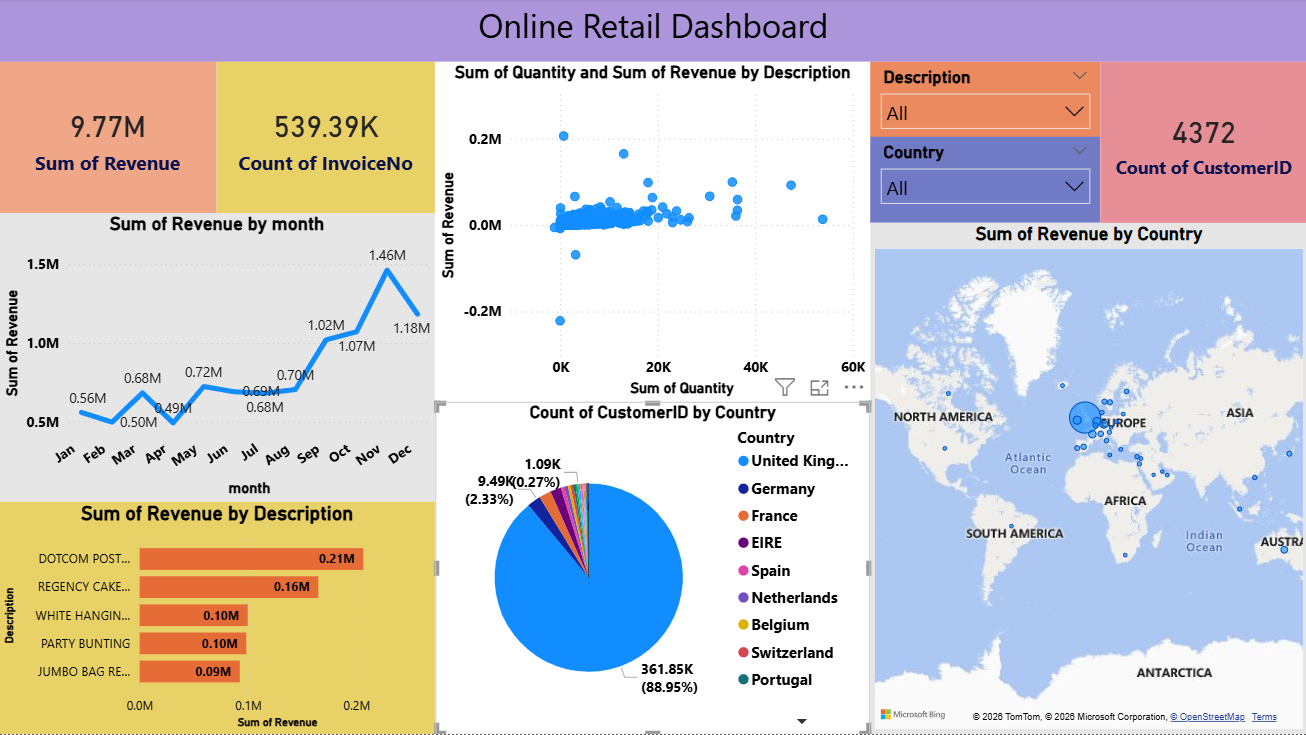

What the dashboard file says about the page in this screenshot:
{"tool":"powerbi","page":{"name":"Page 1","canvas":[1280,720],"ordinal":0},"visuals":[{"type":"lineChart","fields":{"Category":["Online Retail.month"],"Y":["Sum(Online Retail.Revenue)"]},"box":[0,209.9,426.8,282.7],"z":0},{"type":"textbox","box":[0,0,1280.3,62.4],"z":1000},{"type":"card","fields":{"Values":["Sum(Online Retail.Revenue)"]},"box":[0,62.4,212.8,148],"z":2000},{"type":"card","fields":{"Values":["CountNonNull(Online Retail.InvoiceNo)"]},"box":[212.8,62.4,214,148],"z":3000},{"type":"card","fields":{"Values":["Count(Online Retail.CustomerID)"]},"box":[1077.3,62.4,203,157.7],"z":4000},{"type":"barChart","fields":{"Y":["Sum(Online Retail.Revenue)"],"Category":["Online Retail.Description"]},"box":[0,492.8,426.8,227.4],"z":5000},{"type":"scatterChart","fields":{"X":["Sum(Online Retail.Quantity)"],"Y":["Sum(Online Retail.Revenue)"],"Category":["Online Retail.Description"]},"box":[426.8,62.4,425.5,332.6],"z":6000},{"type":"map","fields":{"Category":["Online Retail.Country"],"Size":["Sum(Online Retail.Revenue)"]},"box":[852.3,220.1,428,500.1],"z":7000},{"type":"pieChart","fields":{"Category":["Online Retail.Country"],"Y":["CountNonNull(Online Retail.CustomerID)"]},"box":[426.8,406,425.5,314.3],"z":8000},{"type":"slicer","fields":{"Values":["Online Retail.Description"]},"box":[852.3,62.4,225,73.4],"z":9000},{"type":"slicer","fields":{"Values":["Online Retail.Country"]},"box":[852.3,135.7,225,84.4],"z":10000}]}

Visuals, with their boxes in screenshot pixels (x1, y1, x2, y2), scaled from the page's 1280x720 canvas onto the 1306x735 screenshot:
lineChart - Online Retail.month x Sum(Online Retail.Revenue): [x1=0, y1=214, x2=435, y2=503]
textbox: [x1=0, y1=0, x2=1305, y2=64]
card - Sum(Online Retail.Revenue): [x1=0, y1=64, x2=217, y2=215]
card - CountNonNull(Online Retail.InvoiceNo): [x1=217, y1=64, x2=435, y2=215]
card - Count(Online Retail.CustomerID): [x1=1099, y1=64, x2=1305, y2=225]
barChart - Sum(Online Retail.Revenue) x Online Retail.Description: [x1=0, y1=503, x2=435, y2=734]
scatterChart - Sum(Online Retail.Quantity) x Sum(Online Retail.Revenue): [x1=435, y1=64, x2=870, y2=403]
map - Online Retail.Country x Sum(Online Retail.Revenue): [x1=870, y1=225, x2=1305, y2=734]
pieChart - Online Retail.Country x CountNonNull(Online Retail.CustomerID): [x1=435, y1=414, x2=870, y2=734]
slicer - Online Retail.Description: [x1=870, y1=64, x2=1099, y2=139]
slicer - Online Retail.Country: [x1=870, y1=139, x2=1099, y2=225]
